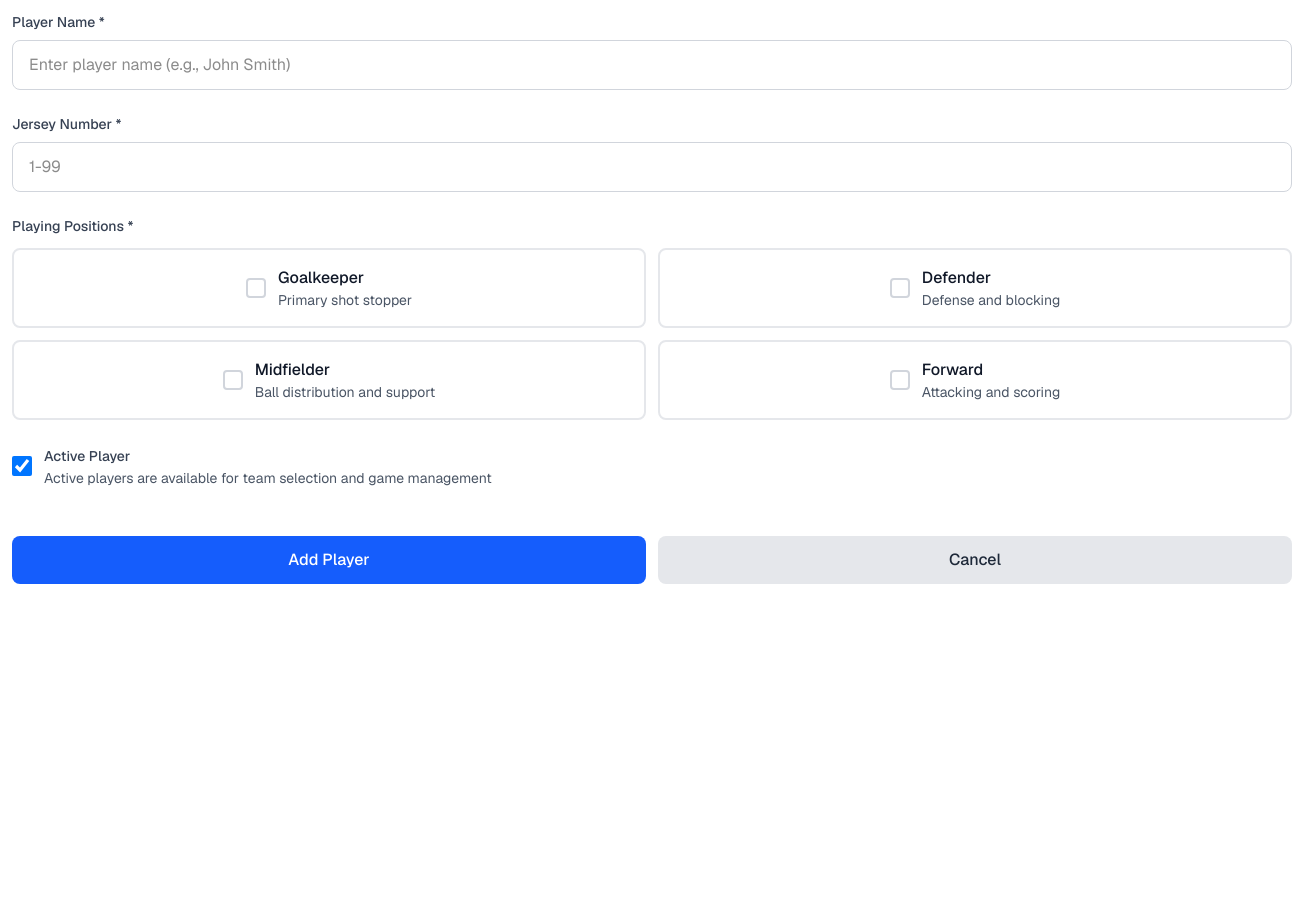
PlayerSetup Component › PlayerForm Component › should validate required fields
Click the button "Add Player" at (329, 560), box 12,536 -> 646,584
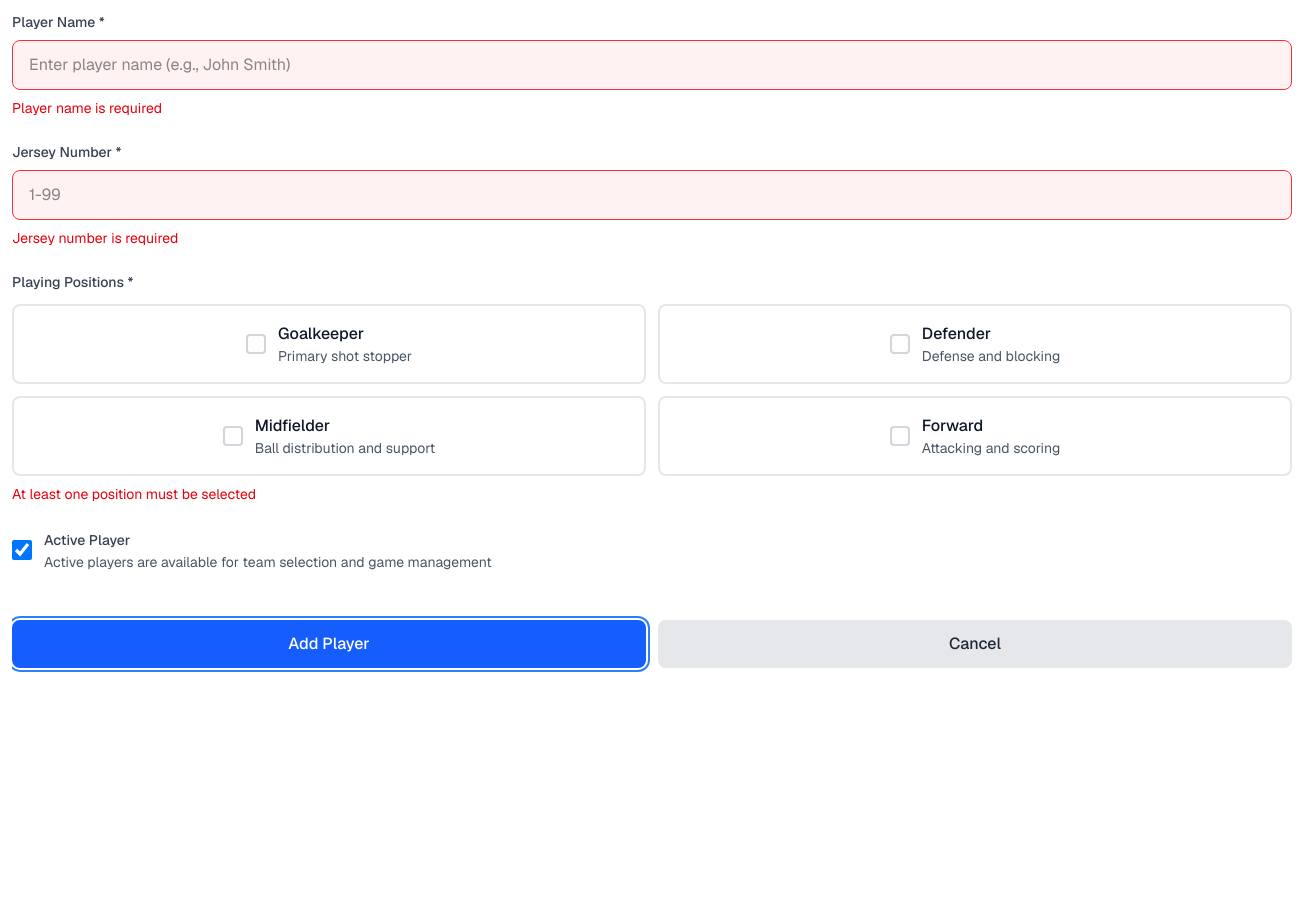
Expected: the text "Player name is required" is shown, 12,99 -> 162,117
Expected: the text "Jersey number is required" is shown, 12,229 -> 178,247
Expected: the text "At least one position must be selected" is shown, 12,485 -> 256,503
